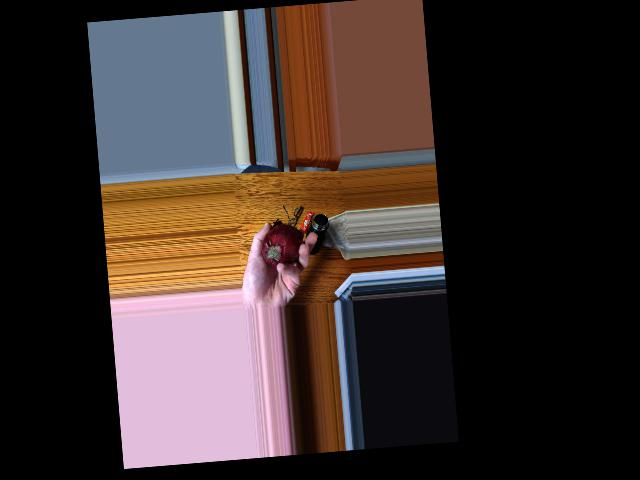onion: (260, 223, 303, 262)
